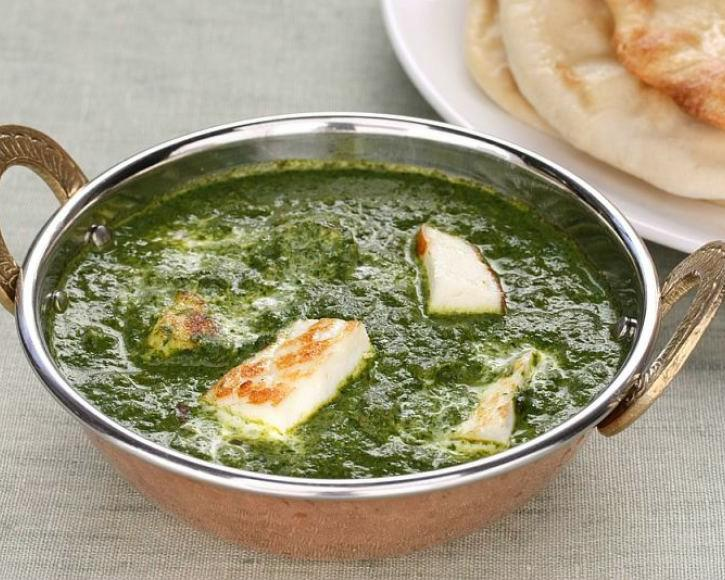PalakPaneer: (44, 158, 620, 479)
